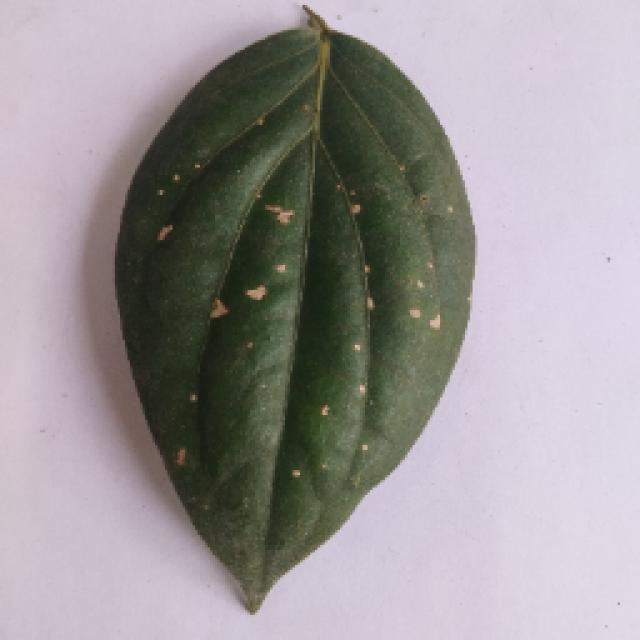pollu-disease: (83, 15, 495, 610)
